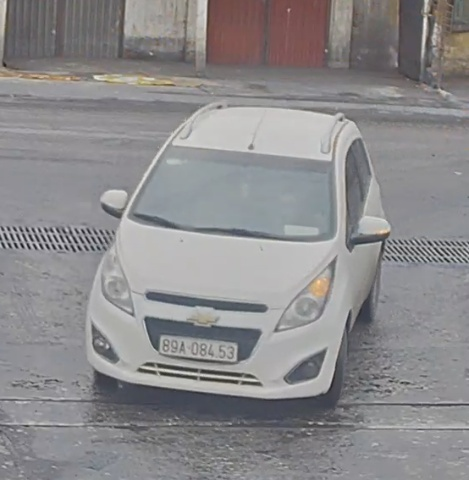vehicle plate: (153, 329, 244, 367)
